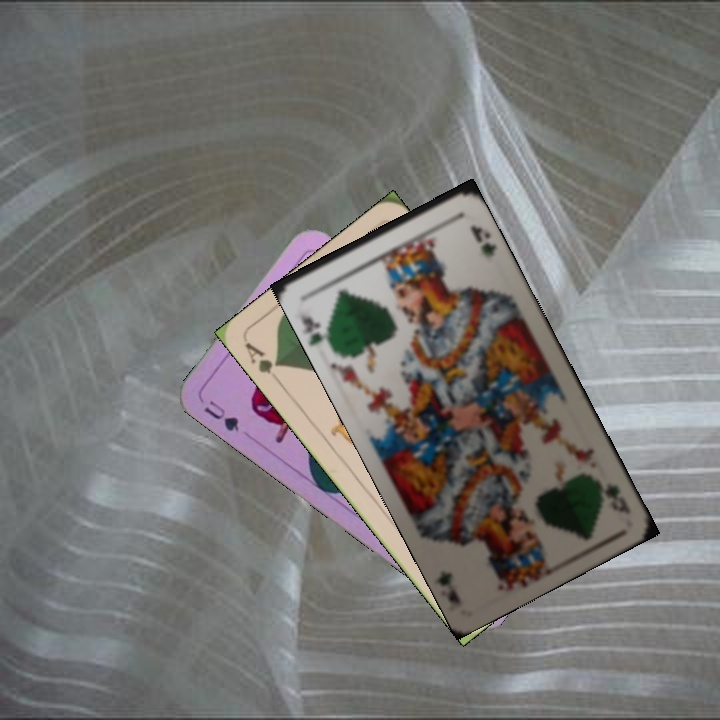GA: (241, 337, 284, 387)
GK: (297, 310, 334, 349), (599, 478, 633, 517)
GU: (200, 396, 242, 434)
